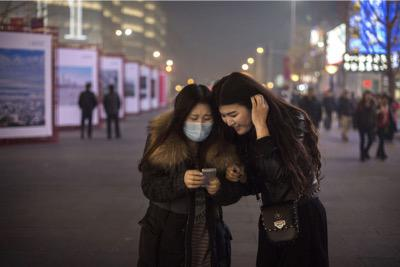with_mask: (182, 110, 214, 142)
without_mask: (218, 109, 252, 136)
